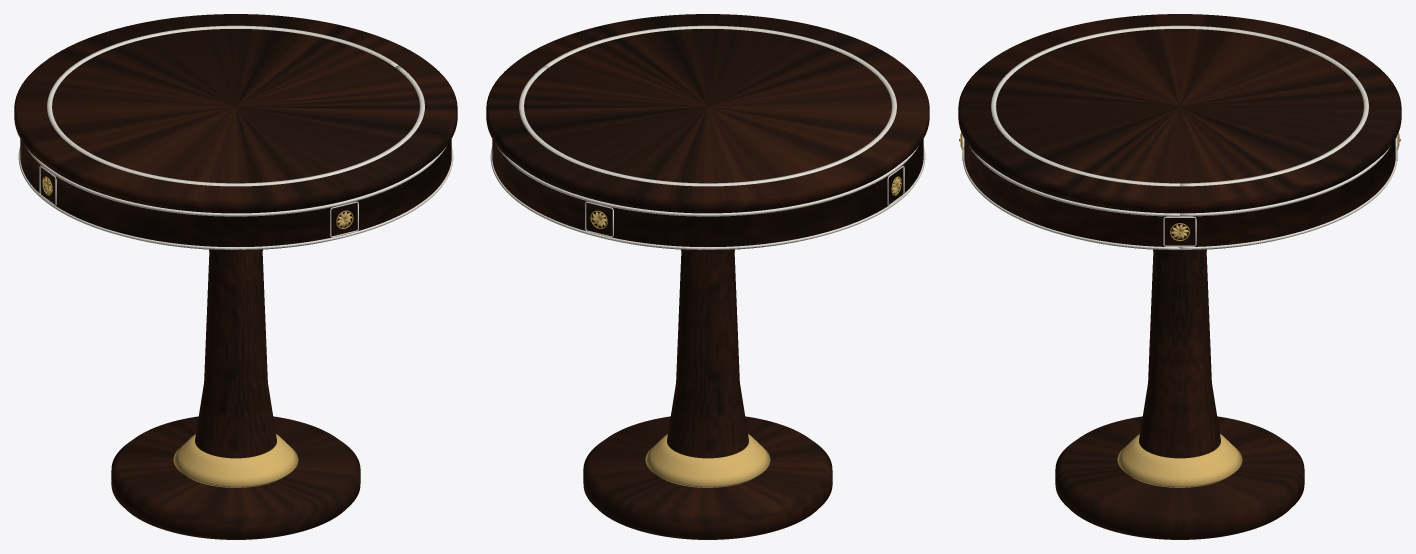
3 views of the same model, side by side, from view 1: azimuth 30°, elevation 25°; view 2: azimuth 150°, elevation 25°; view 3: azimuth 270°, elevation 25° (orthographic).
Parts seen in each view (by area): view 1: Belgravia round pedestal side table | living-2 web batch; view 2: Belgravia round pedestal side table | living-2 web batch; view 3: Belgravia round pedestal side table | living-2 web batch.
Boxes of the visible parts, box(x1,y1,x2,y2) form: Belgravia round pedestal side table | living-2 web batch: box(14, 14, 457, 539); Belgravia round pedestal side table | living-2 web batch: box(486, 14, 929, 539); Belgravia round pedestal side table | living-2 web batch: box(958, 14, 1401, 539).
Bounding box in the file's own units: 0.68 × 0.65 × 0.68.
5 materials, 1 textured.
